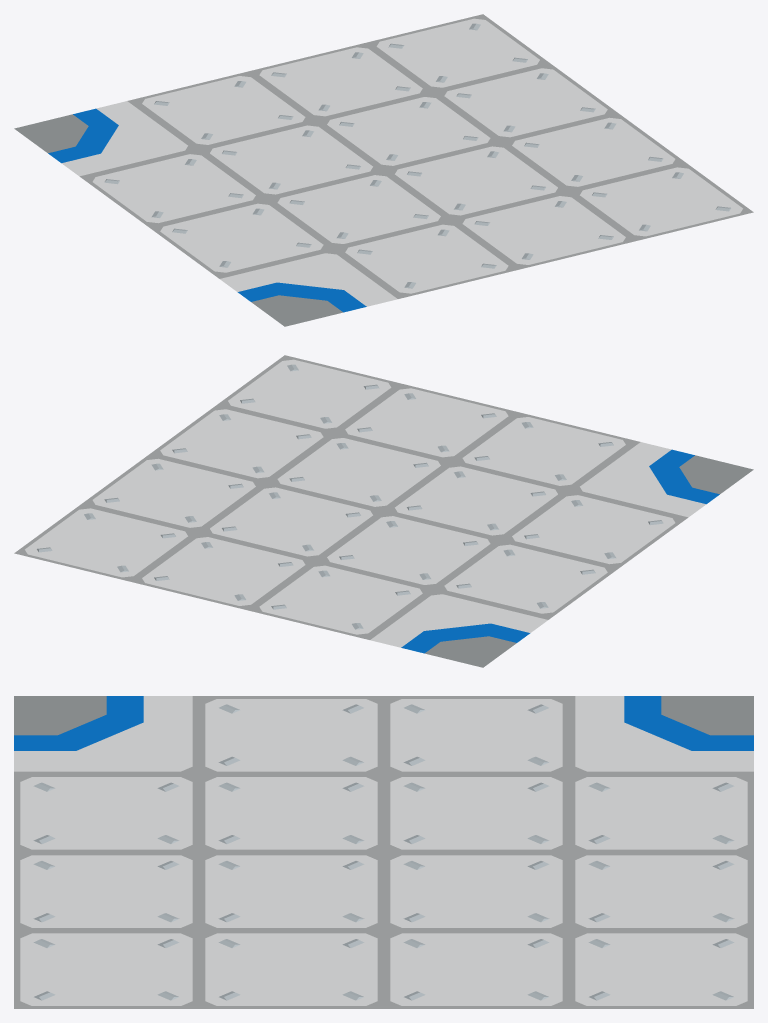
The model's file is Floor_type_A_017.glb.
3 views of the same model, one above another, from view 1: azimuth 30°, elevation 25°; view 2: azimuth 150°, elevation 25°; view 3: azimuth 270°, elevation 25° (orthographic). The views are drawn at different scales.
Visible parts, largest first — view 1: Floor_type_A_017; view 2: Floor_type_A_017; view 3: Floor_type_A_017.
Part boxes in pixels (bbox=[...]): Floor_type_A_017: bbox=[14, 14, 753, 326]; Floor_type_A_017: bbox=[14, 355, 753, 667]; Floor_type_A_017: bbox=[14, 696, 753, 1008].
Bounding box in the file's own units: 4 × 0.008 × 4.
Materials: 2 (2 with a texture image).
